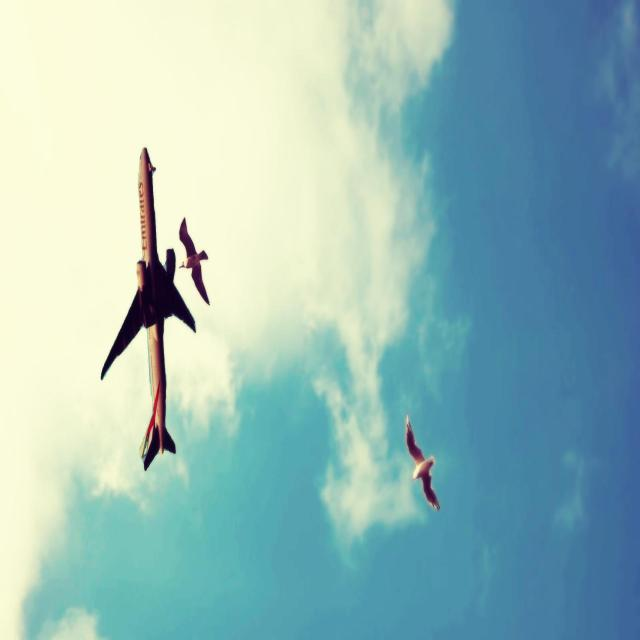airplane: (100, 146, 196, 470)
